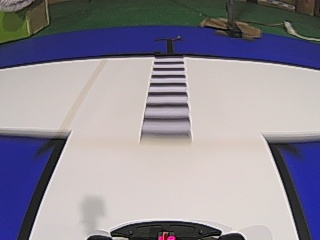CrossWalk: (132, 56, 198, 146)
